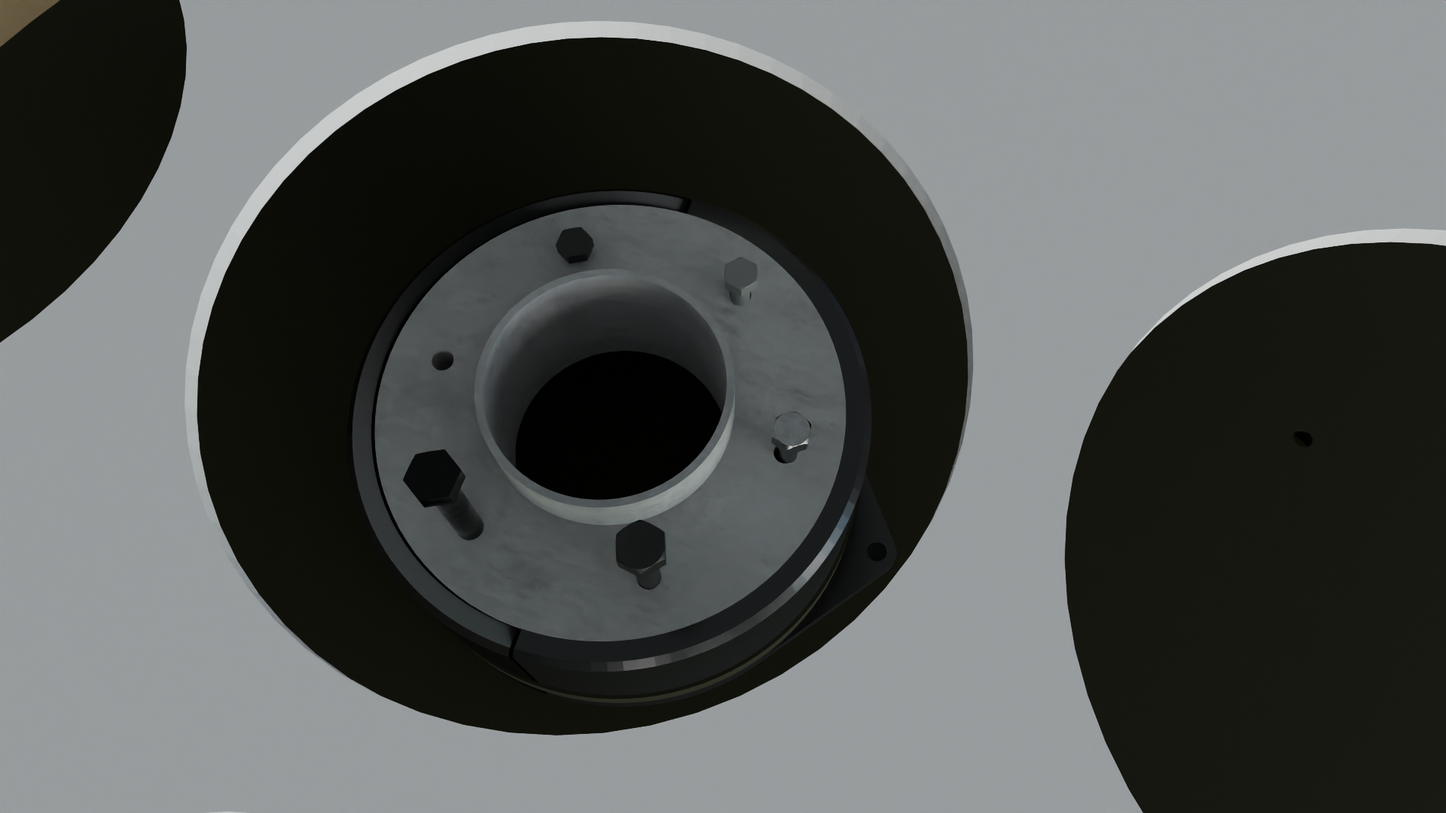bolt: (403, 449, 462, 501), (615, 519, 665, 574), (772, 412, 811, 450), (725, 257, 758, 291), (556, 227, 593, 257)
